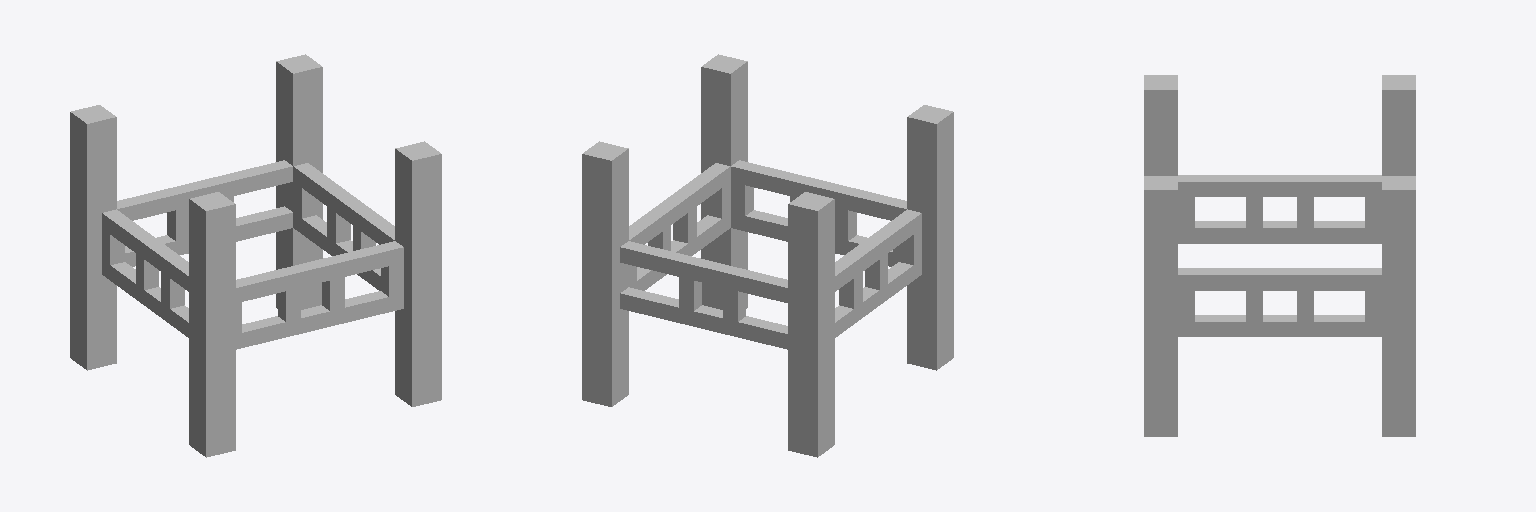
The model's file is power_generators_frame.obj.
The picture shows the model from 3 angles: view 1: azimuth 30°, elevation 25°; view 2: azimuth 150°, elevation 25°; view 3: azimuth 270°, elevation 25°; orthographic projection.
Visible parts, largest first — view 1: node_0_0_0.020; view 2: node_0_0_0.020; view 3: node_0_0_0.020.
Part boxes in pixels (x1,y1,x2,y2): node_0_0_0.020: (70, 54, 441, 457); node_0_0_0.020: (582, 54, 953, 457); node_0_0_0.020: (1144, 75, 1415, 436).
Size of the model in its own units: 1 by 1 by 1.